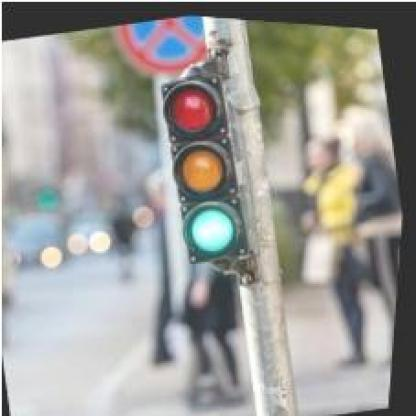green: (150, 66, 262, 264)
